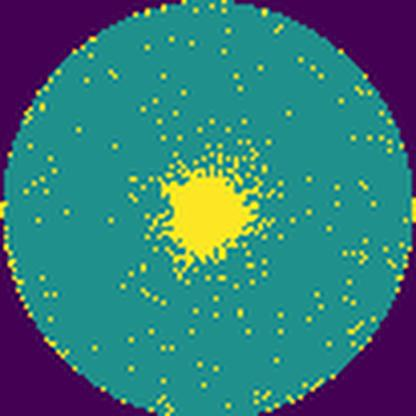Center: (158, 167, 263, 267)
